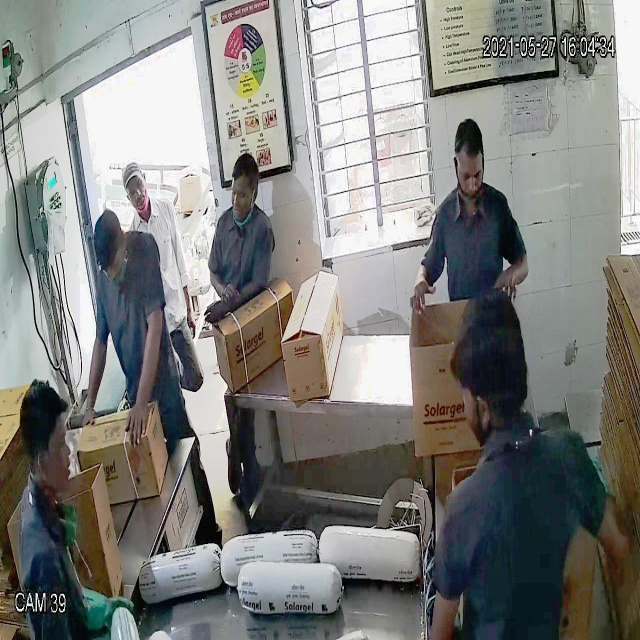Sin_gafas: (451, 159, 488, 191)
